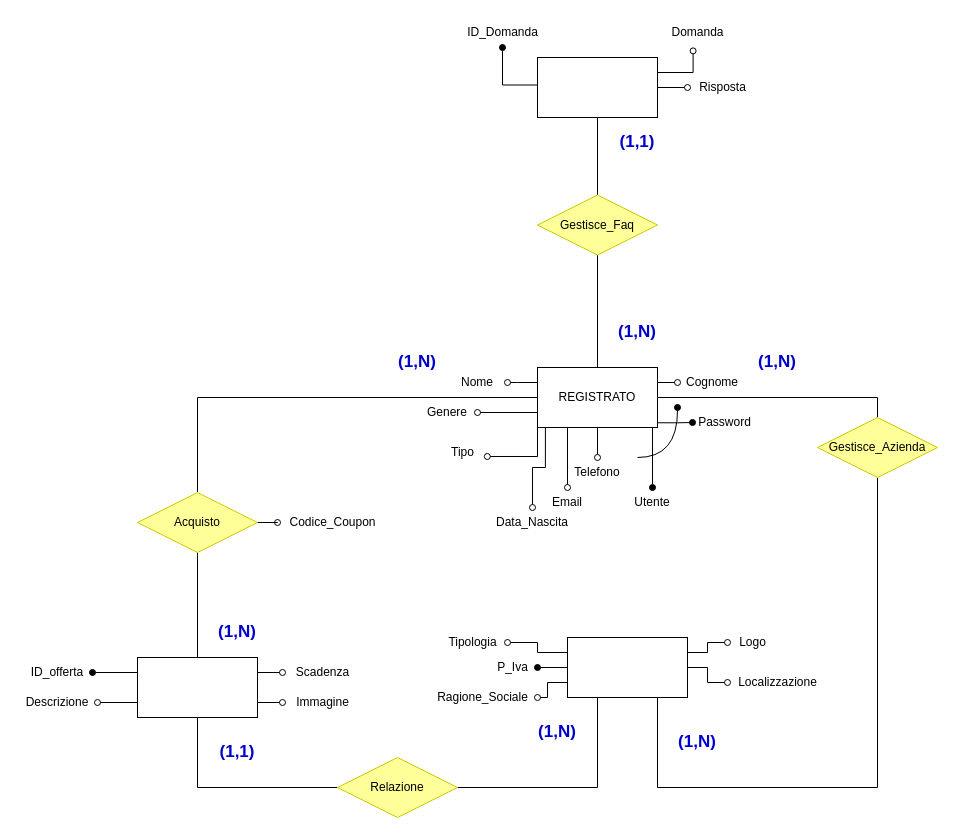
This 955x835 diagram has some shape labels left out. Here are the shapes that lost their labels. From the top down, the centre of each, then its label:
At (597,87): "FAQ".
At (197,687): "OFFERTA".
At (627,667): "AZIENDE".
